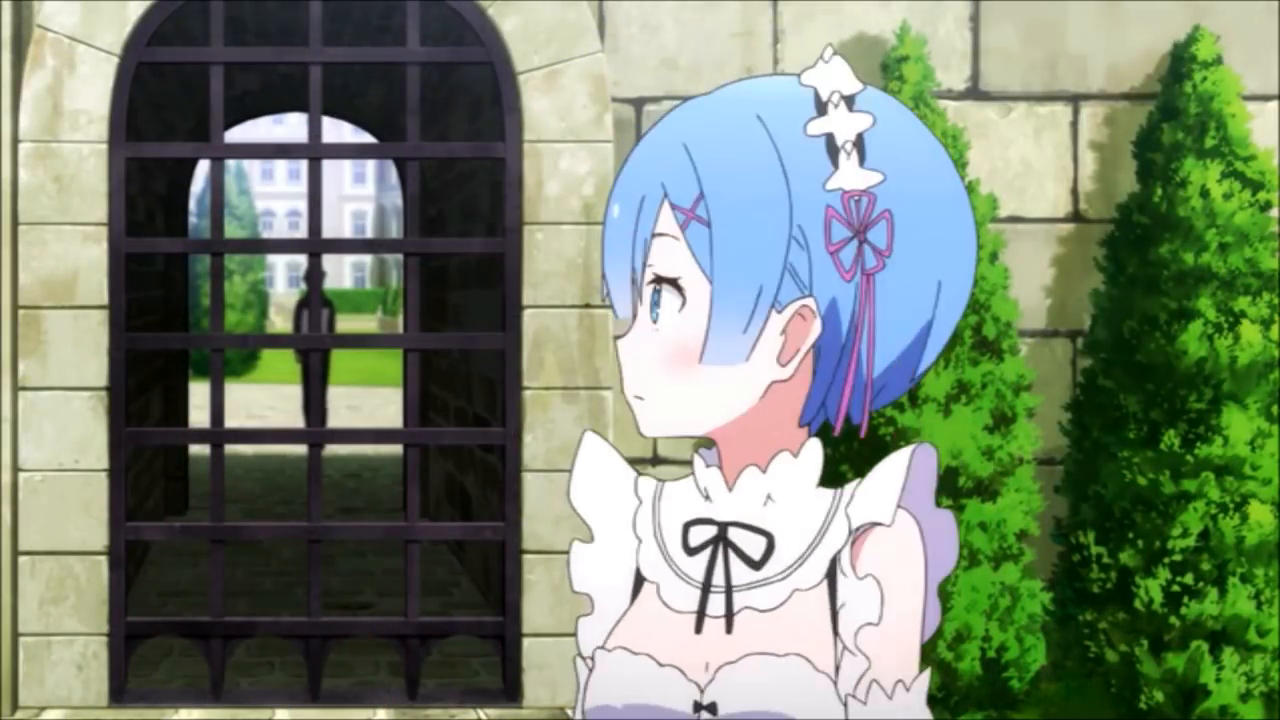REM: (592, 43, 985, 466)
